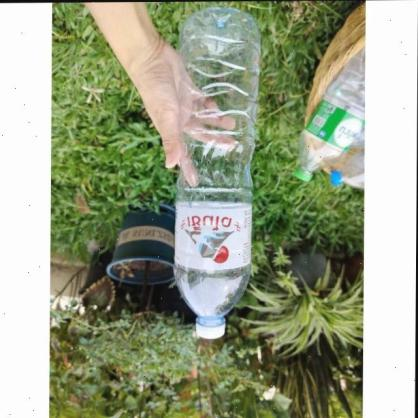bottle: (172, 6, 265, 341)
cap: (195, 318, 227, 338)
label: (174, 197, 255, 271)
